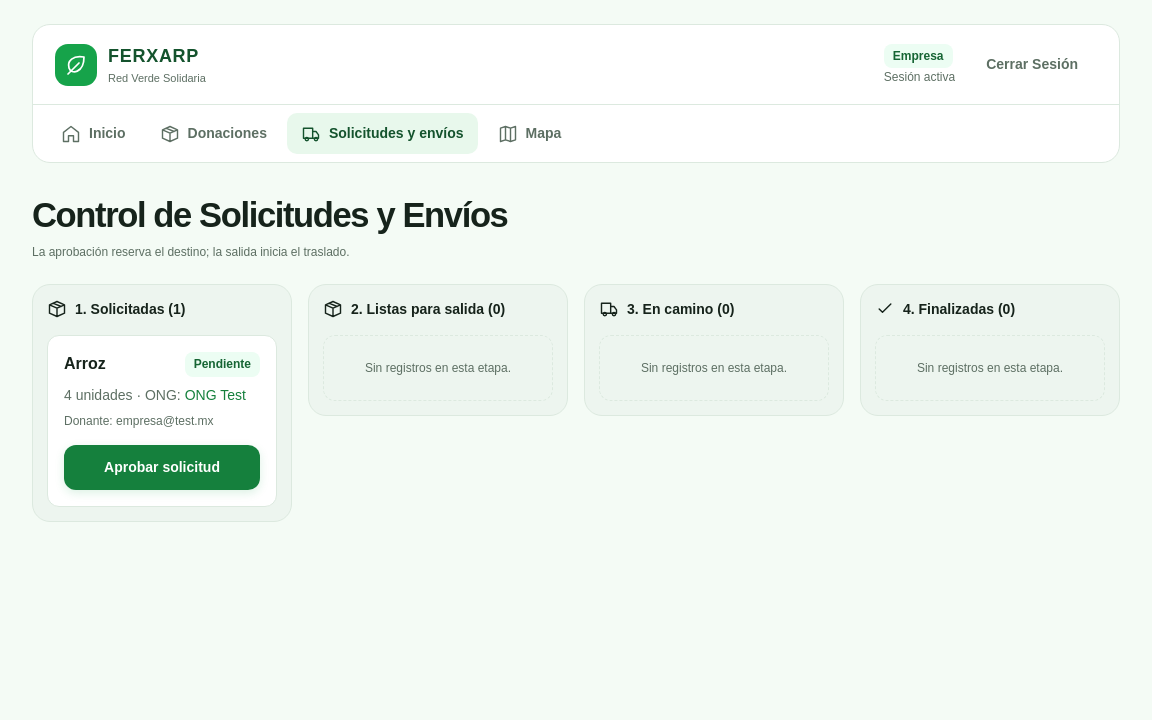
Scenario: JEST-API-03 409 al aprobar informa conflicto y actualiza datos
Click the button "Aprobar solicitud". click: (162, 468)
box: [64,445,260,490]
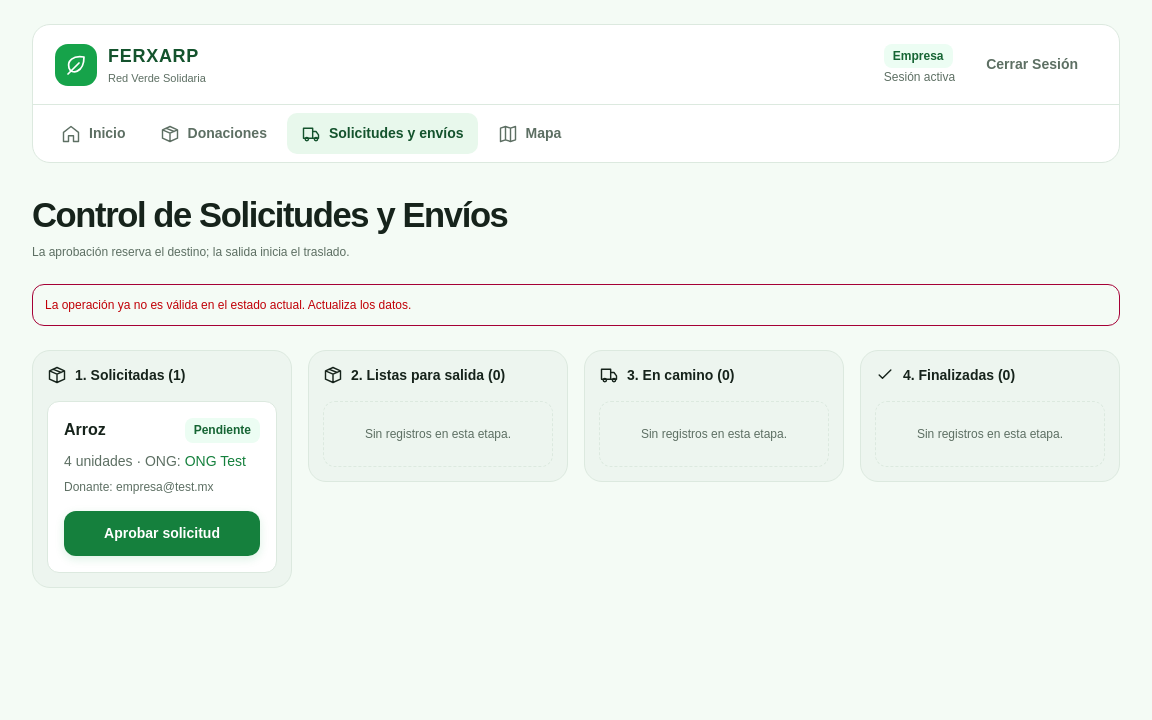
Check: the message shows "La operación ya no es válida", box [45,298,411,312]
